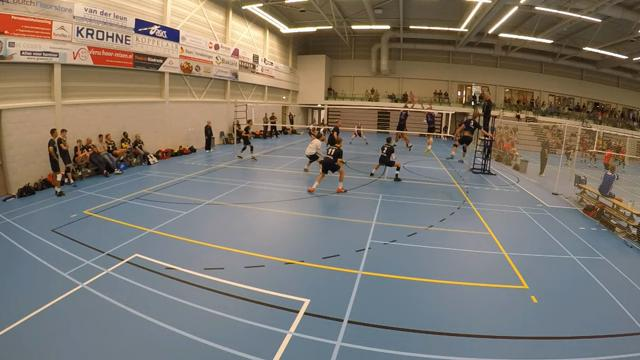attacco: (444, 102, 495, 162)
muro: (390, 97, 413, 154), (417, 97, 438, 158)
